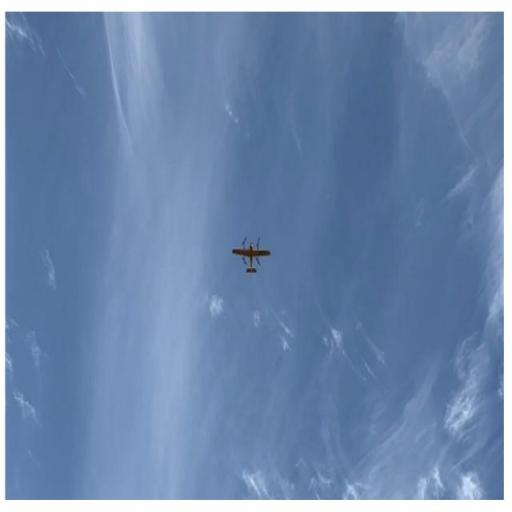uav: (224, 223, 283, 288)
